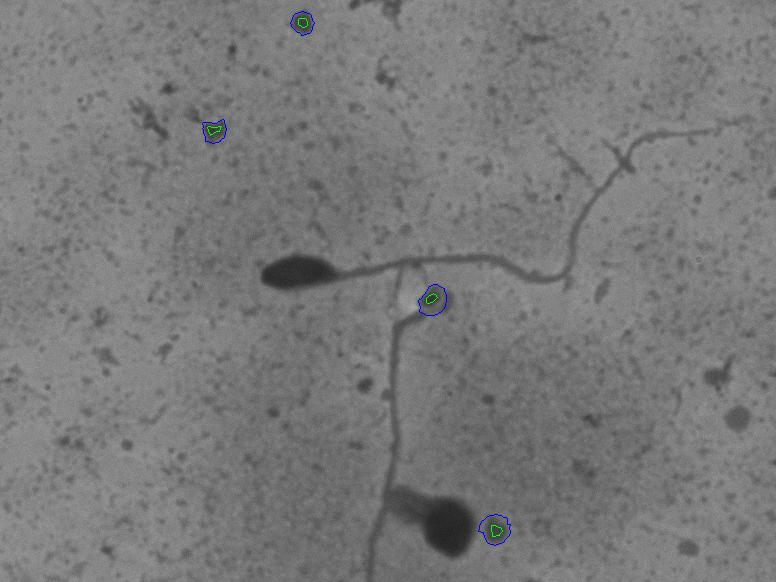Abnormal: (252, 201, 588, 298)
